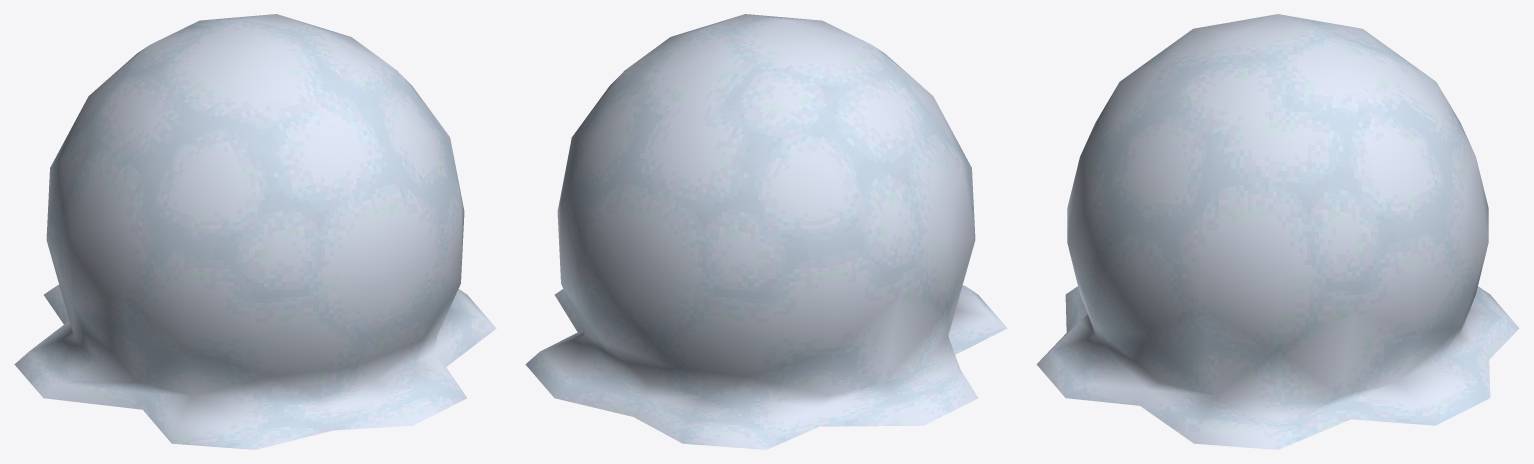
Rendered from snowball_1day.dae.
3 renders of one model, left to right at view 1: azimuth 30°, elevation 25°; view 2: azimuth 150°, elevation 25°; view 3: azimuth 270°, elevation 25°, orthographic.
Parts seen in each view (by area): view 1: snowball_1day; view 2: snowball_1day; view 3: snowball_1day.
Part boxes in pixels (x1=…): snowball_1day: x1=14, y1=14, x2=496, y2=449; snowball_1day: x1=525, y1=14, x2=1007, y2=449; snowball_1day: x1=1036, y1=14, x2=1519, y2=449.
Size of the model in its own units: 36.77 by 25.8 by 36.21.
Materials: 1 (1 with a texture image).
